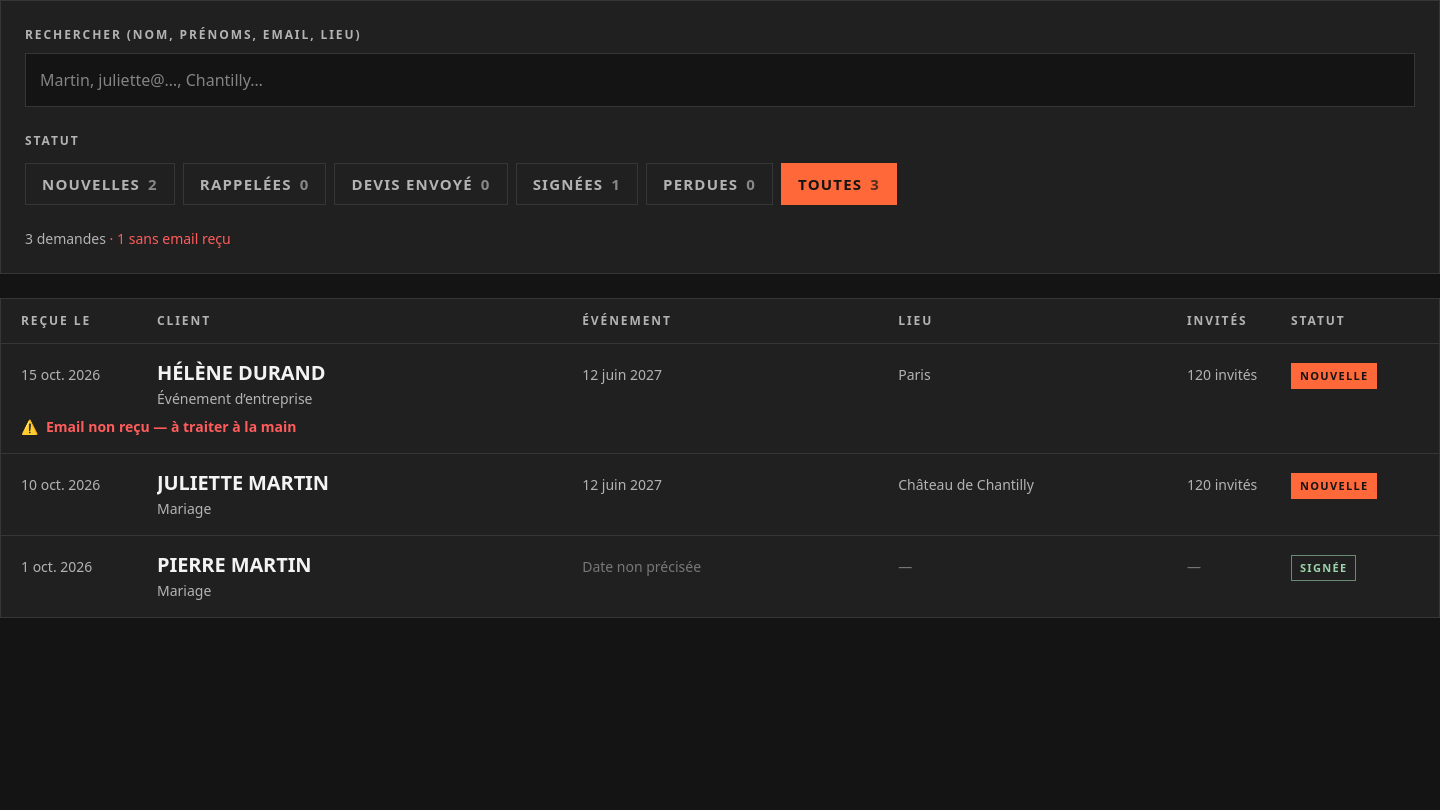
Test: GestionDemandes — fiche › statut et note s’enregistrent seuls (sans confirmation), sans griser les champs ; la liste suit
Click the button with aria-label "Ouvrir la demande de Juliette Martin". click: coordinates (243, 483)
box: [157,470,329,495]
(page scrolled)
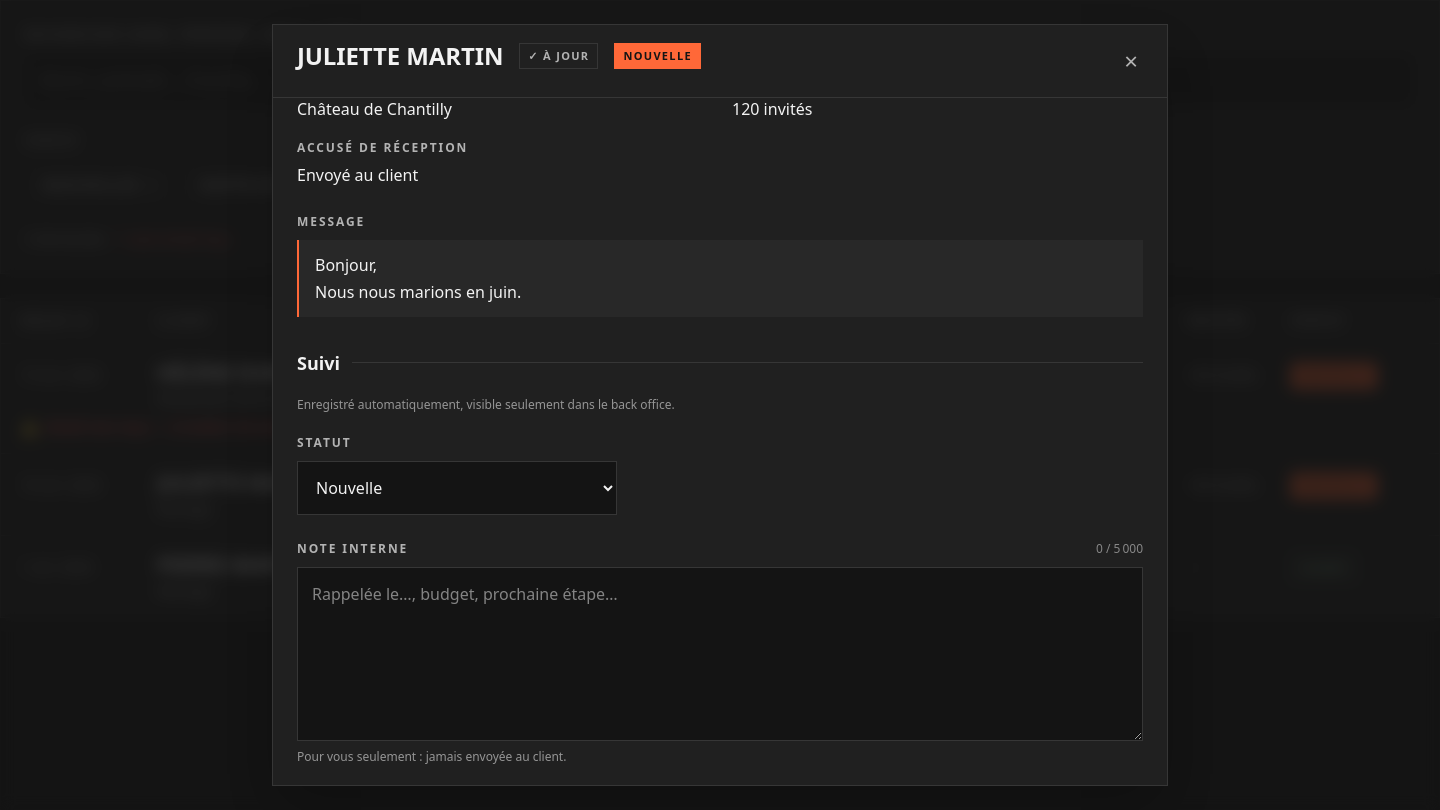
Select "Devis envoyé" in the dropdown labelled "Statut". click: coordinates (457, 488)
box: [297,461,617,515]
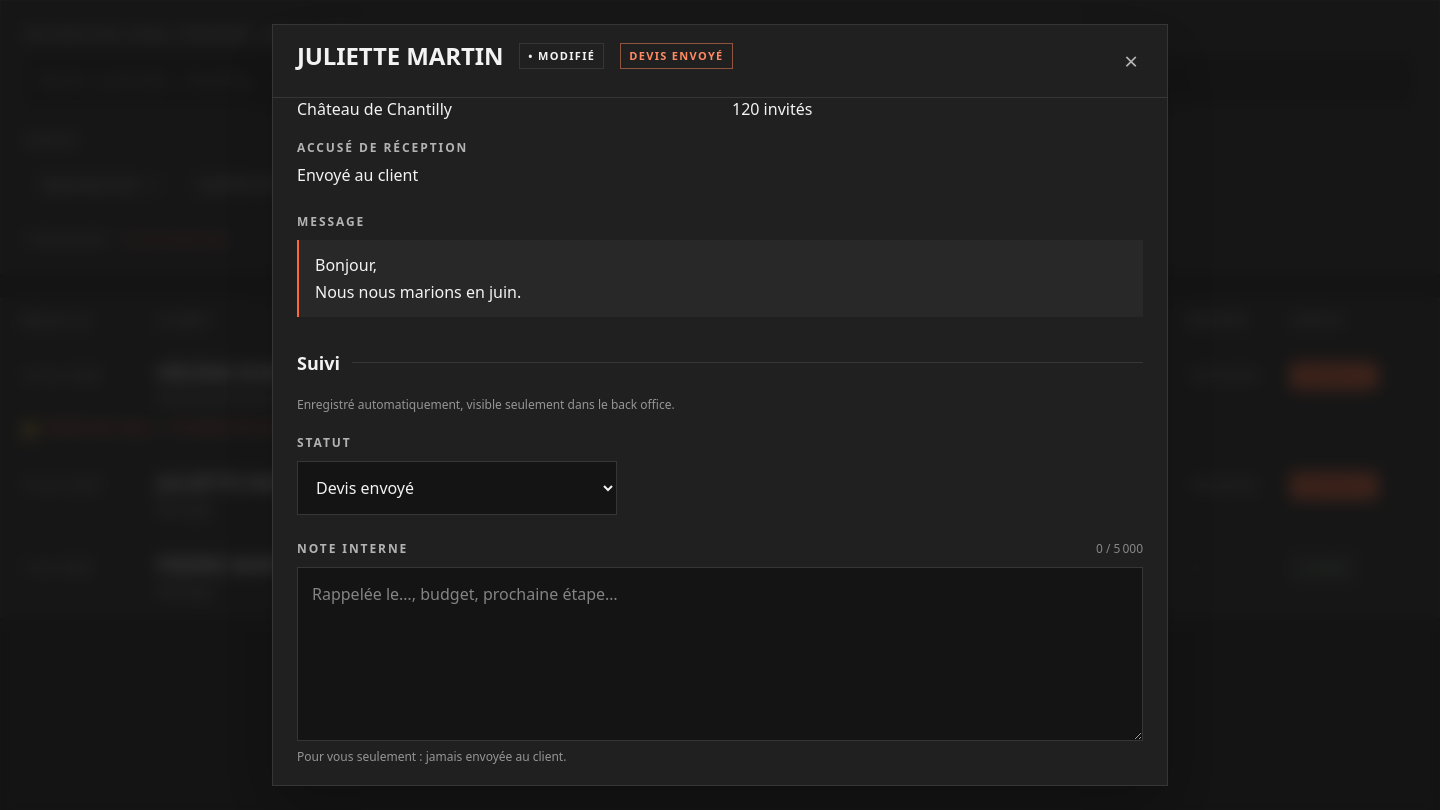
Type "Devis envoyé le 18" into the text box labelled "Note interne". click: coordinates (720, 654)
box: [297,566,1143,740]
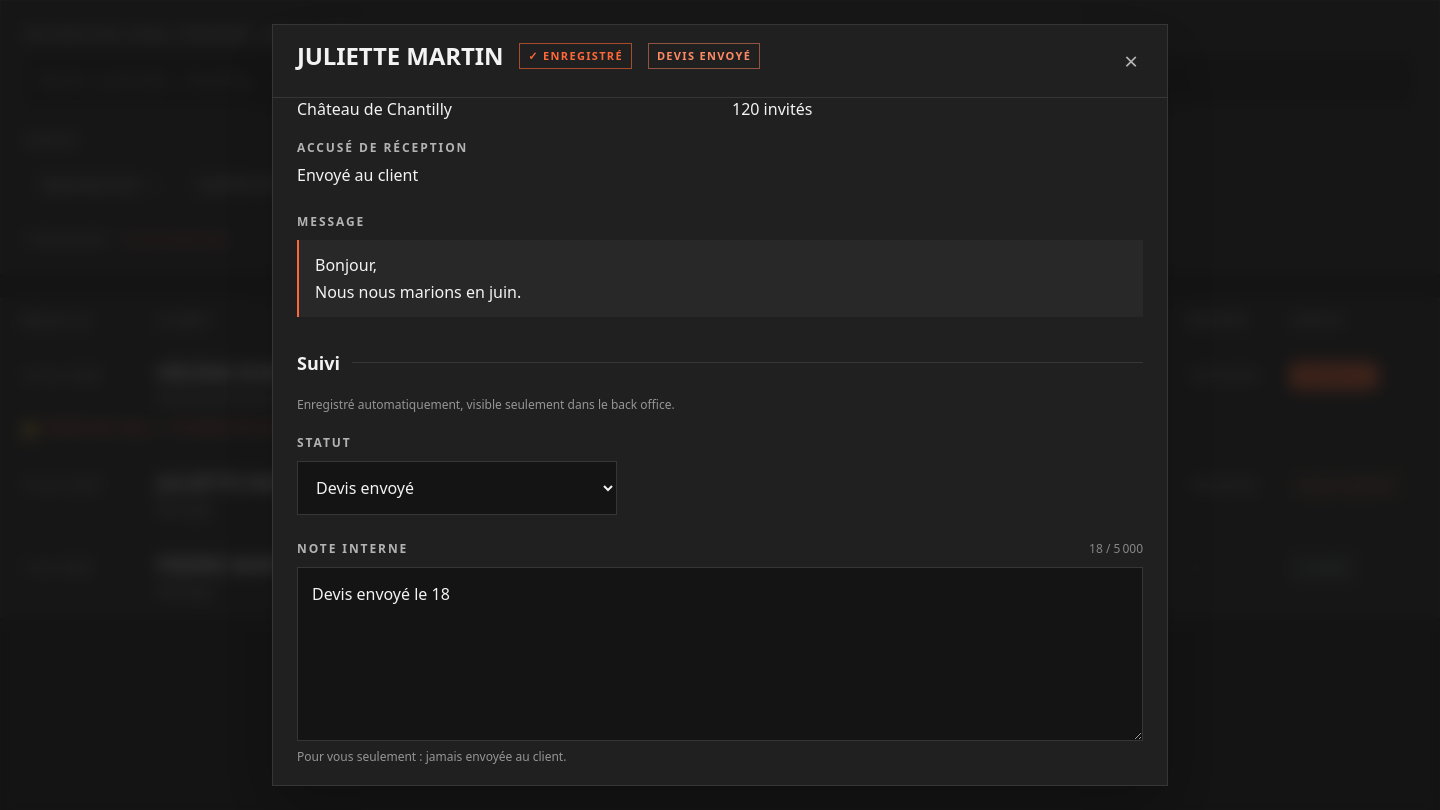
Check: the button "Devis envoyé 1" is shown, box [334,163,508,205]
Check: the text box labelled "Note interne" is enabled, box [297,566,1143,740]
Check: the text "✓ Enregistré" is shown, box [519,43,632,69]
